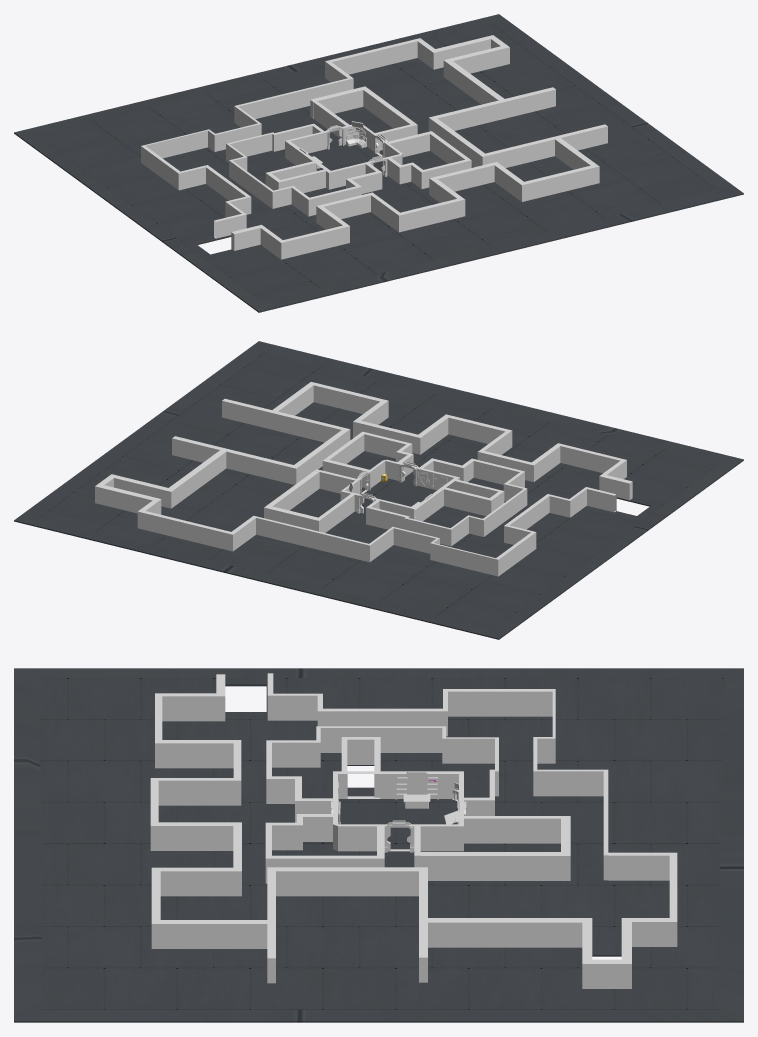
File: teste cenario (1).fbx
3 views of the same model, one above another, from view 1: azimuth 30°, elevation 25°; view 2: azimuth 150°, elevation 25°; view 3: azimuth 270°, elevation 25° (orthographic). The views are drawn at different scales.
Parts seen in each view (by area): view 1: chao, Cube.017; view 2: chao, Cube.017; view 3: chao, Cube.017.
Boxes of the visible parts, x1,y1,x2,y2 form: chao: [14, 14, 743, 312]; Cube.017: [141, 35, 607, 259]; chao: [14, 341, 743, 639]; Cube.017: [95, 382, 632, 576]; chao: [14, 668, 743, 1022]; Cube.017: [150, 673, 677, 988].
Bounding box in the file's own units: 8251 × 385 × 7216.
